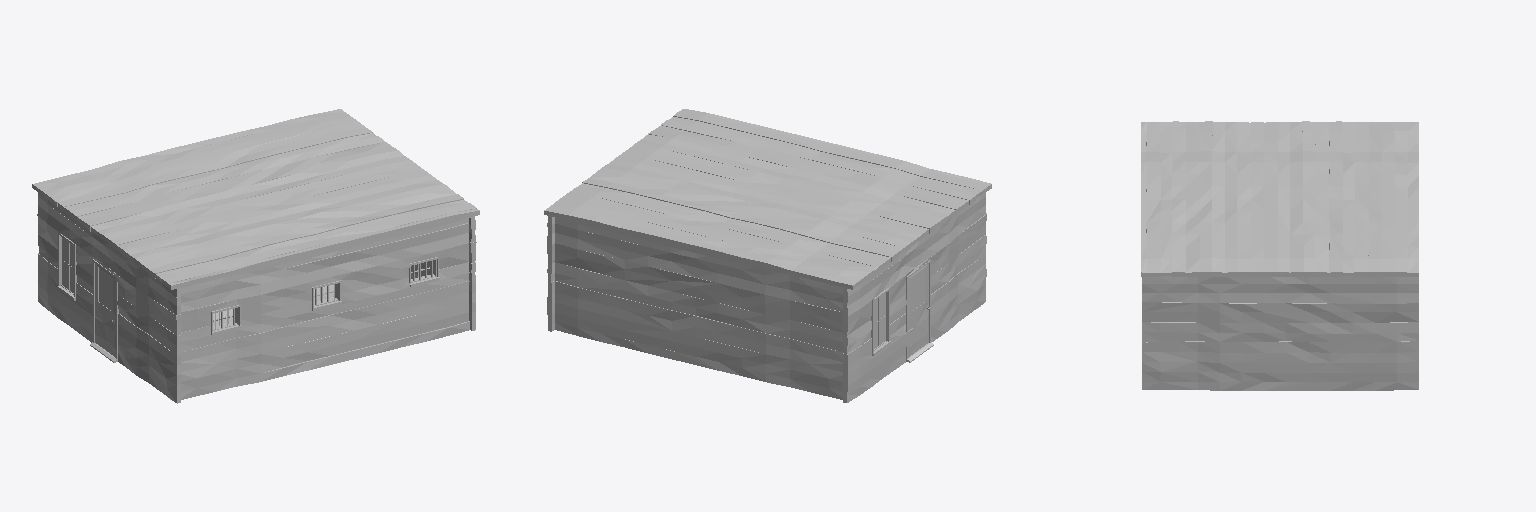
Rendered from Sherffs Office_LOD1.obj.
3 renders of one model, left to right at view 1: azimuth 30°, elevation 25°; view 2: azimuth 150°, elevation 25°; view 3: azimuth 270°, elevation 25°, orthographic.
Visible parts, largest first — view 1: WildWest_Sherff_Walls, WildWest_Sherff_Ceiling, WildWest_Sherff_Door; view 2: WildWest_Sherff_Walls, WildWest_Sherff_Ceiling, WildWest_Sherff_Door; view 3: WildWest_Sherff_Ceiling, WildWest_Sherff_Walls.
Part boxes in pixels (x1,y1,x2,y2): WildWest_Sherff_Walls: (37, 193, 476, 403); WildWest_Sherff_Ceiling: (32, 109, 479, 399); WildWest_Sherff_Door: (95, 263, 115, 357); WildWest_Sherff_Walls: (547, 193, 986, 402); WildWest_Sherff_Ceiling: (544, 109, 991, 308); WildWest_Sherff_Door: (908, 263, 929, 357); WildWest_Sherff_Ceiling: (1141, 121, 1418, 277); WildWest_Sherff_Walls: (1142, 276, 1418, 390).
Size of the model in its own units: 9.47 by 3.58 by 7.4.